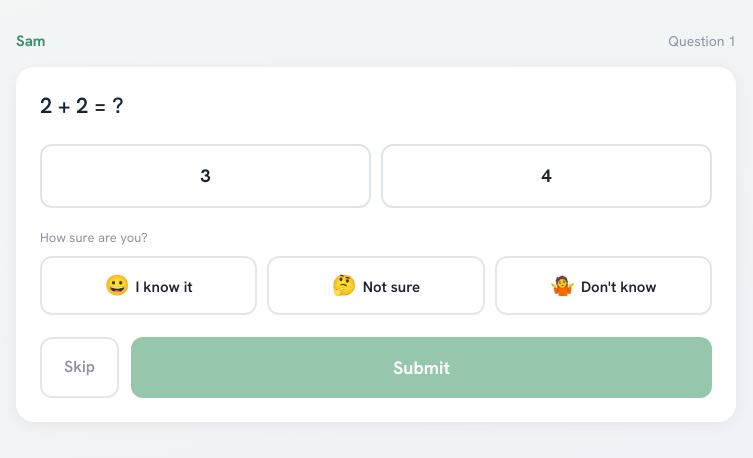
Test: KioskQuestionScreen submit failure messaging › shows the server-provided message when the server actually responded with an error
What coordinates should you click on to do the following:
click the button "4"
I would click on:
 (546, 176)
Its box is [381,144,712,208].
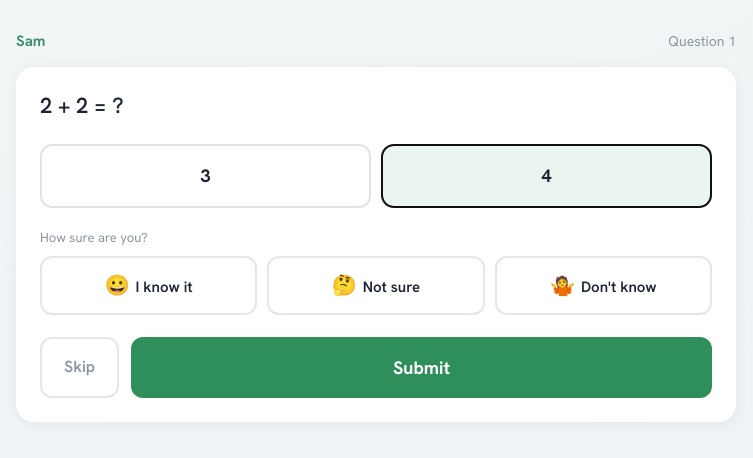
What coordinates should you click on to do the following:
click the button "Submit"
I would click on:
 (422, 368)
Its box is [131,337,712,398].
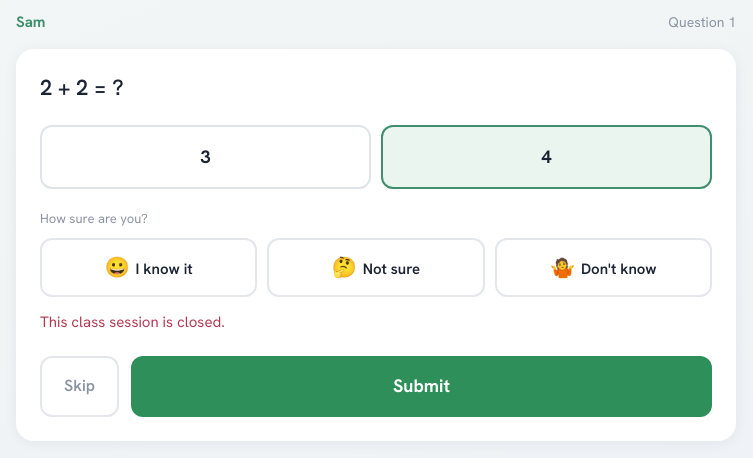
Expected: the text "This class session is closed." is shown, [40,312,225,332]
